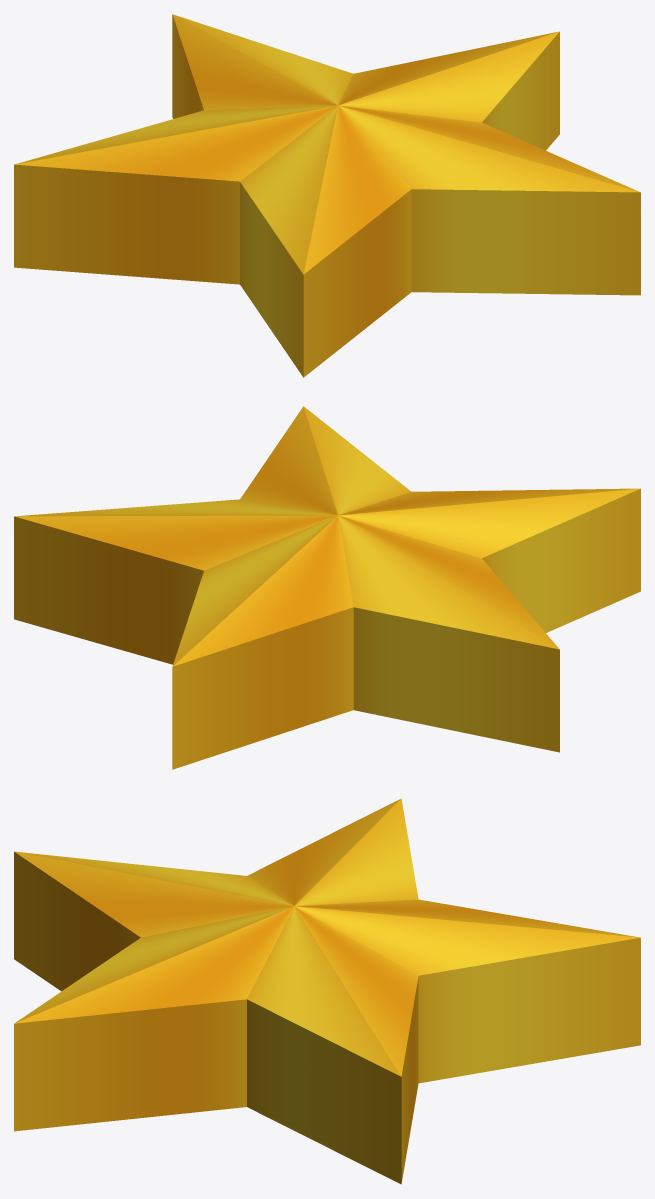
The model's file is Shape_Star.fbx.
3 views of the same model, one above another, from view 1: azimuth 30°, elevation 25°; view 2: azimuth 150°, elevation 25°; view 3: azimuth 270°, elevation 25° (orthographic). The views are drawn at different scales.
Parts seen in each view (by area): view 1: Shape_Star; view 2: Shape_Star; view 3: Shape_Star.
Boxes of the visible parts, x1,y1,x2,y2 form: Shape_Star: [14, 14, 640, 377]; Shape_Star: [14, 406, 640, 769]; Shape_Star: [14, 798, 640, 1184].
Size of the model in its own units: 0.6657 by 0.19 by 0.6332.
1 material, 1 textured.
